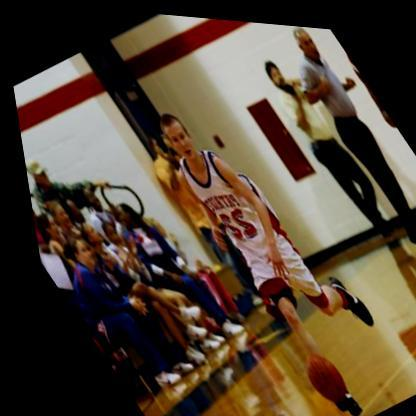basketball: (282, 339, 346, 407)
